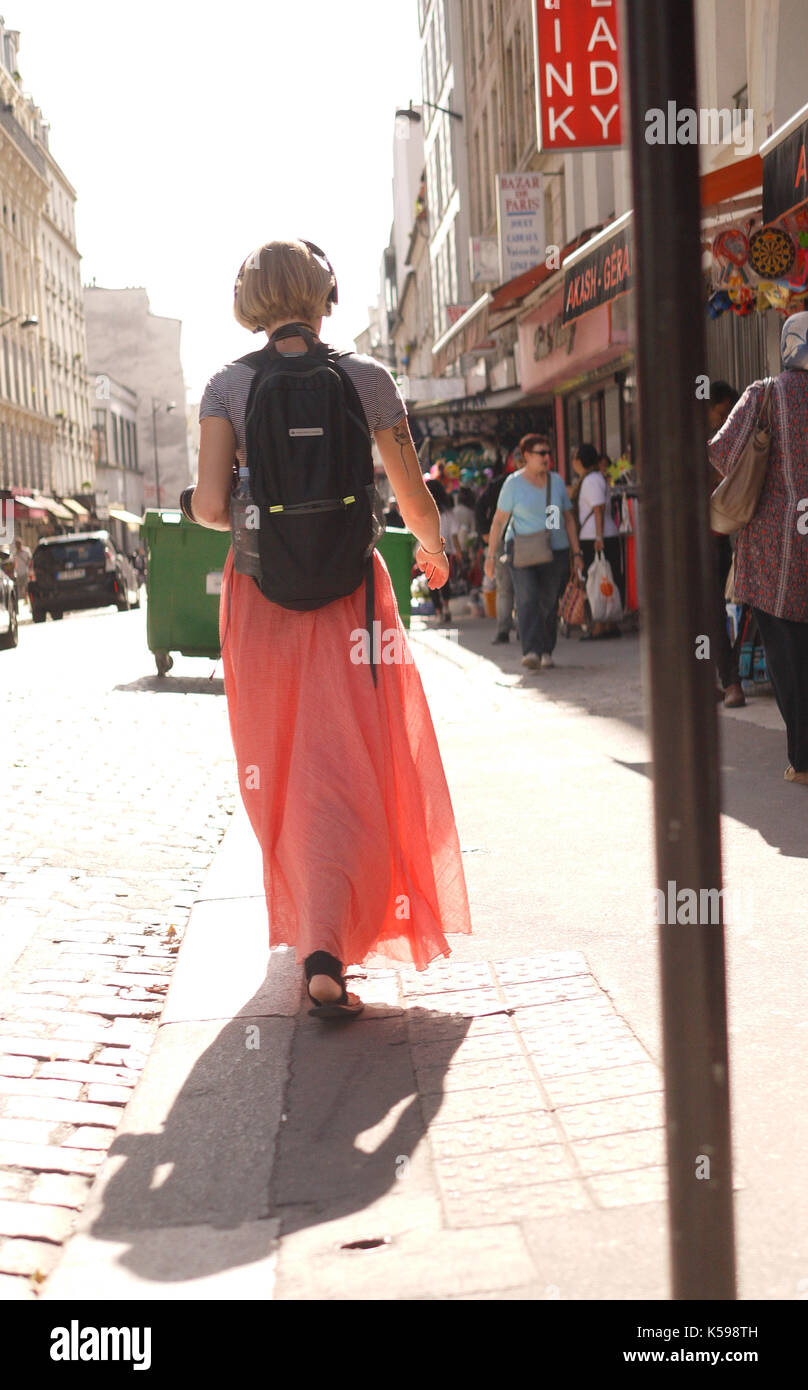car: (22, 515, 145, 629)
person: (182, 231, 450, 1022), (709, 307, 808, 785), (489, 429, 576, 672), (572, 440, 619, 631)
